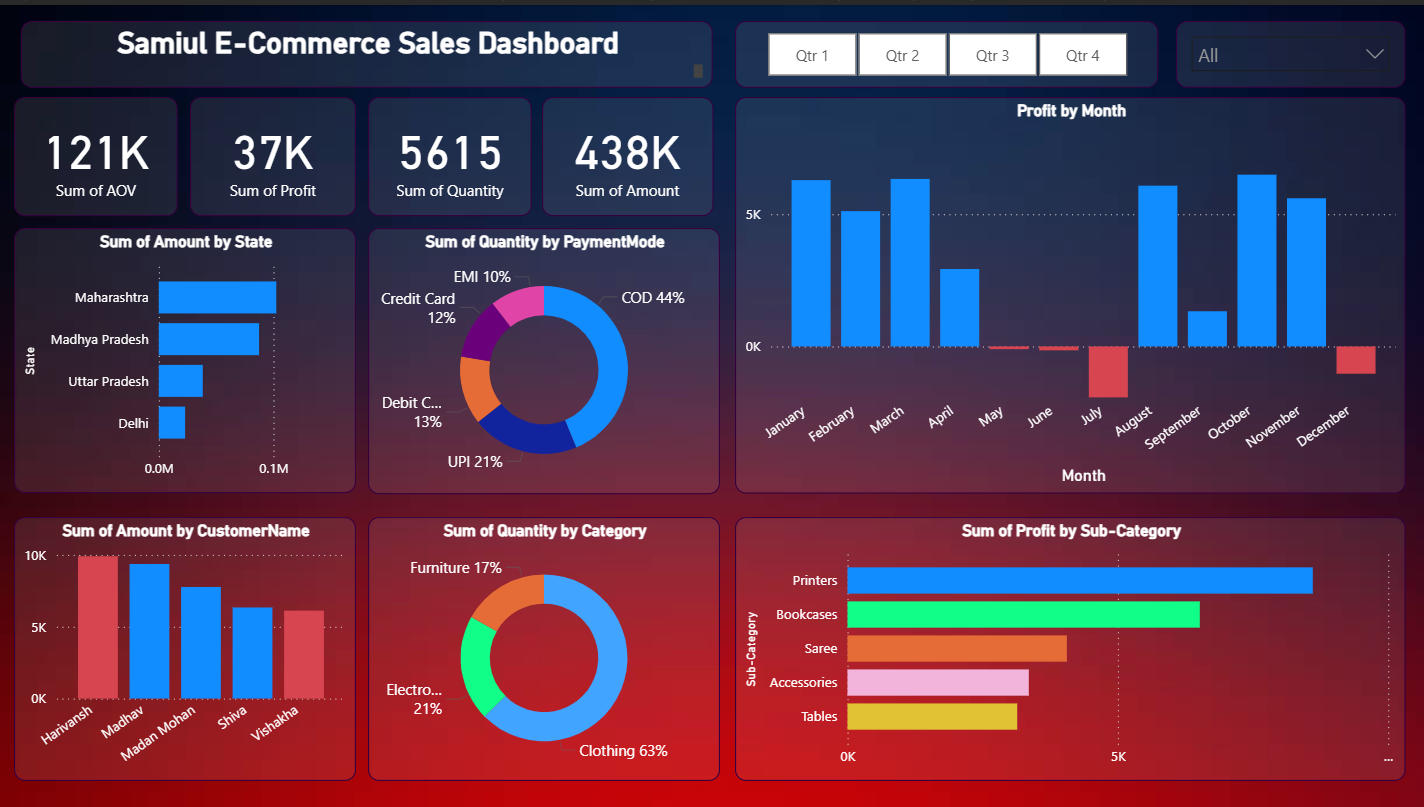

The page's visual inventory and layout, read from the dashboard file:
{"tool":"powerbi","page":{"name":"Page 1","canvas":[1280,720],"ordinal":0},"visuals":[{"type":"textbox","title":"Samiul E-Commerce Sales Dashboard","box":[18.9,14.4,621.2,60.1],"z":0},{"type":"columnChart","title":"Profit by Month","fields":{"Y":["Sum(Details.Profit)"],"Category":["Orders_clean.Order Date.Variation.Date Hierarchy.Month"]},"box":[659.9,82.6,602.4,356.4],"z":1000},{"type":"barChart","fields":{"Category":["Details.Sub-Category"],"Y":["Sum(Details.Profit)"]},"box":[659.9,459.7,602.4,237],"z":2000},{"type":"donutChart","fields":{"Category":["Details.Category"],"Y":["Sum(Details.Quantity)"]},"box":[330.4,459.7,316,237],"z":3000},{"type":"donutChart","fields":{"Y":["Sum(Details.Quantity)"],"Category":["Details.PaymentMode"]},"box":[330.4,200.2,316,238.8],"z":4000},{"type":"card","fields":{"Values":["Sum(Details.Amount)"]},"box":[486.6,82.6,153.5,106.8],"z":4001},{"type":"card","fields":{"Values":["Sum(Details.Quantity)"]},"box":[330.4,82.6,147.2,106.8],"z":4002},{"type":"card","fields":{"Values":["Sum(Details.Profit)"]},"box":[170.6,82.6,149,106.8],"z":4003},{"type":"card","fields":{"Values":["Sum(Details.AOV)"]},"box":[12.6,82.6,147.2,106.8],"z":4004},{"type":"barChart","fields":{"Y":["Sum(Details.Amount)"],"Category":["Orders_clean.State"]},"box":[12.6,200.4,307.4,238.3],"z":4005},{"type":"columnChart","fields":{"Category":["Orders_clean.CustomerName"],"Y":["Sum(Details.Amount)"]},"box":[13,460,307,237],"z":4006},{"type":"slicer","fields":{"Values":["Orders_clean.State"]},"box":[1055.8,14.4,206.5,60.1],"z":4007},{"type":"slicer","fields":{"Values":["Orders_clean.Order Date.Variation.Date Hierarchy.Quarter"]},"box":[659.9,14.4,379.8,60.1],"z":4008}]}

Visuals, with their boxes in screenshot pixels (x1, y1, x2, y2), scaled from the page's 1280x720 canvas onto the 1424x807 screenshot:
"Samiul E-Commerce Sales Dashboard" textbox: 21:16:712:84
"Profit by Month" columnChart: 734:93:1404:492
barChart - Details.Sub-Category x Sum(Details.Profit): 734:515:1404:781
donutChart - Details.Category x Sum(Details.Quantity): 368:515:719:781
donutChart - Sum(Details.Quantity) x Details.PaymentMode: 368:224:719:492
card - Sum(Details.Amount): 541:93:712:212
card - Sum(Details.Quantity): 368:93:531:212
card - Sum(Details.Profit): 190:93:356:212
card - Sum(Details.AOV): 14:93:178:212
barChart - Sum(Details.Amount) x Orders_clean.State: 14:225:356:492
columnChart - Orders_clean.CustomerName x Sum(Details.Amount): 14:516:356:781
slicer - Orders_clean.State: 1175:16:1404:84
slicer - Orders_clean.Order Date.Variation.Date Hierarchy.Quarter: 734:16:1157:84
